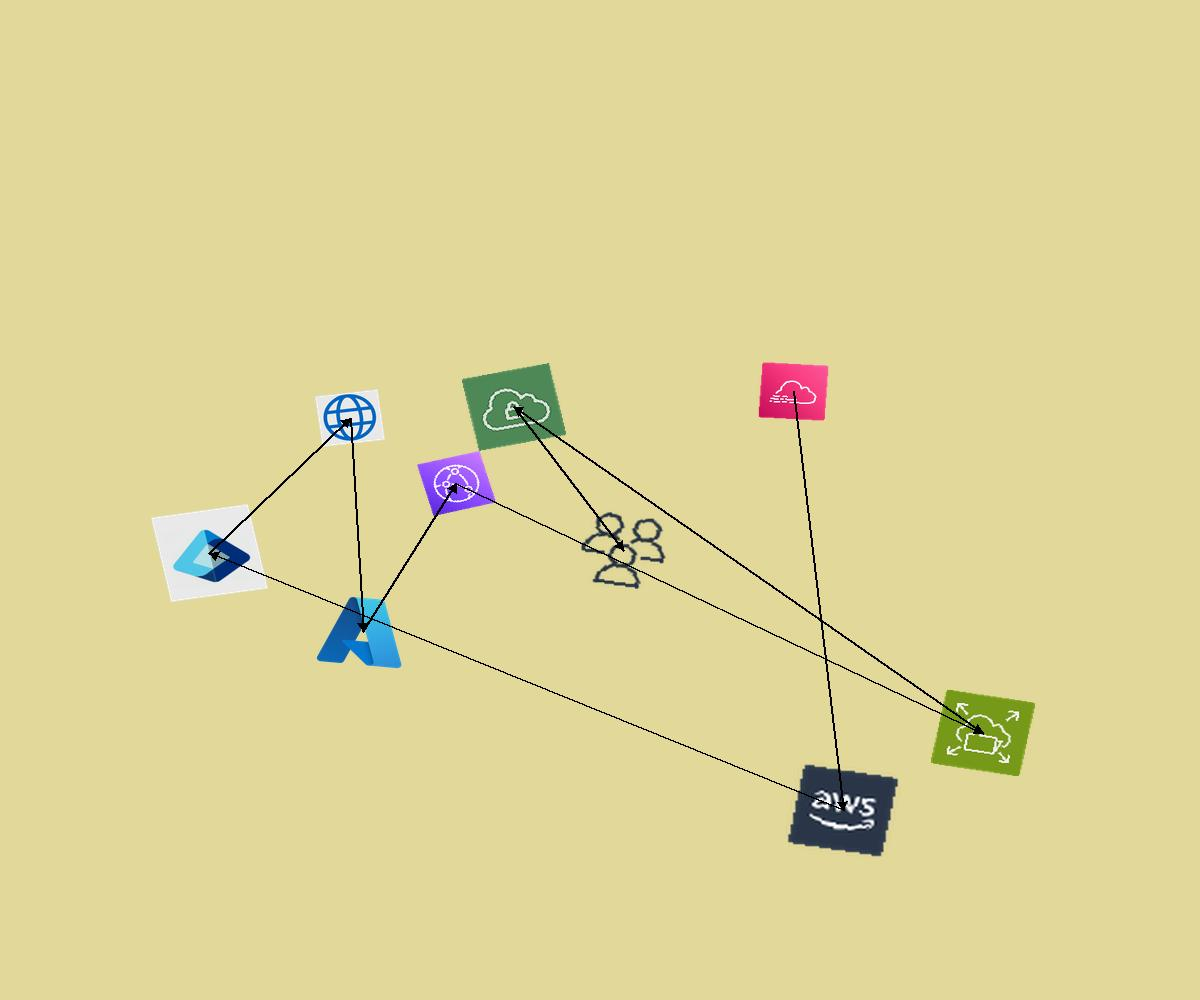AWS-Cloud-logo: (786, 763, 900, 858)
AWS-CloudFront: (417, 451, 496, 516)
AWS-CloudTrail: (758, 362, 829, 421)
AWS-EFS: (930, 689, 1036, 777)
AWS-Private_vpc: (461, 363, 567, 451)
AWS-Res_Users: (570, 506, 677, 595)
Azure_http: (315, 389, 385, 447)
Azure_microsoft_entra: (151, 504, 268, 602)
Azure_services: (312, 589, 414, 674)
